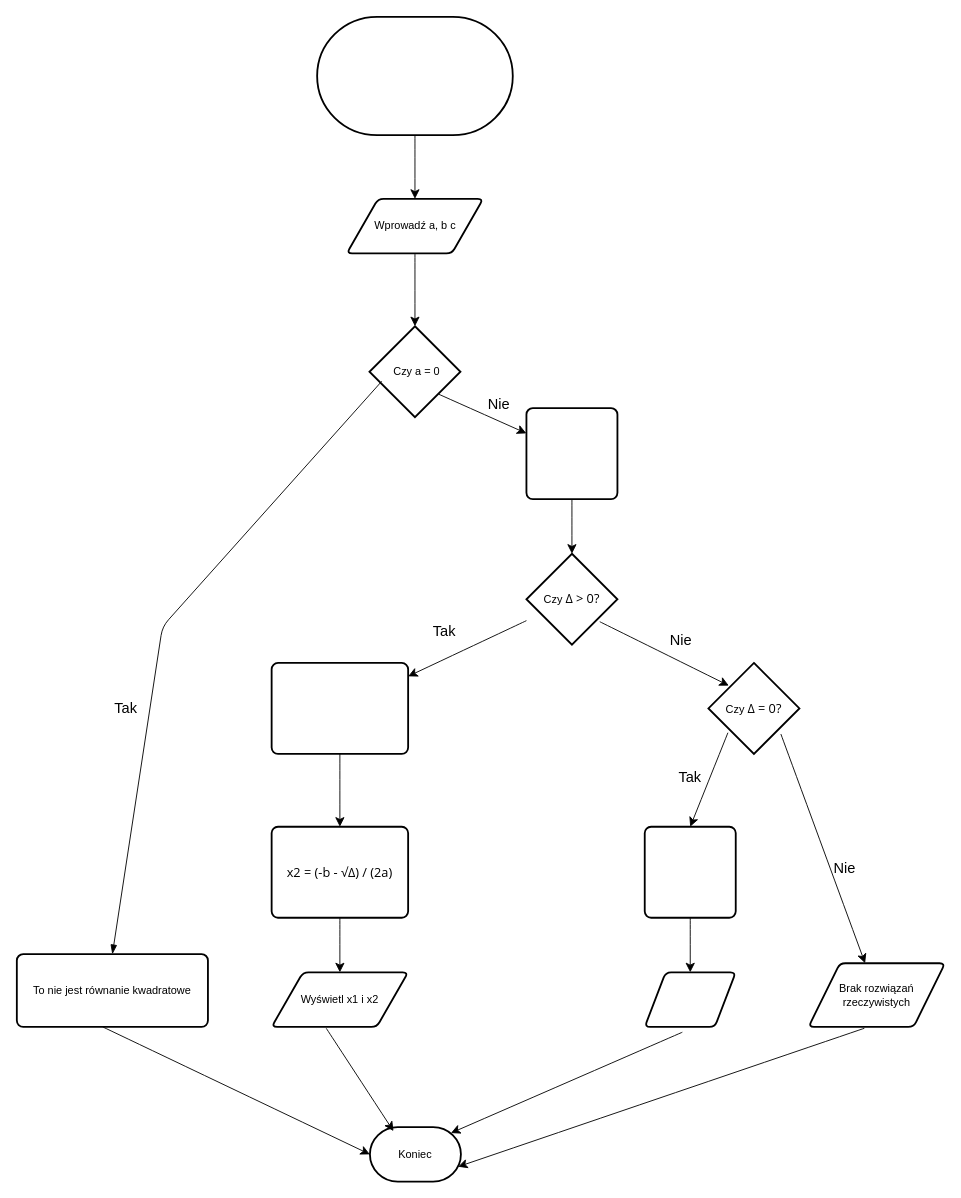
Some shapes in this 961 by 1198 pixel diagram are drawn without their labels. Each missing label, with the centre of its shape:
"Start" goes at point (414, 75).
"Wyświrtls x" goes at point (689, 999).
"x = -b / (2a)" goes at point (689, 871).
"x1 = (-b + √Δ) / (2a)" goes at point (339, 708).
"Δ = b 2 − 4 a c" goes at point (571, 453).
